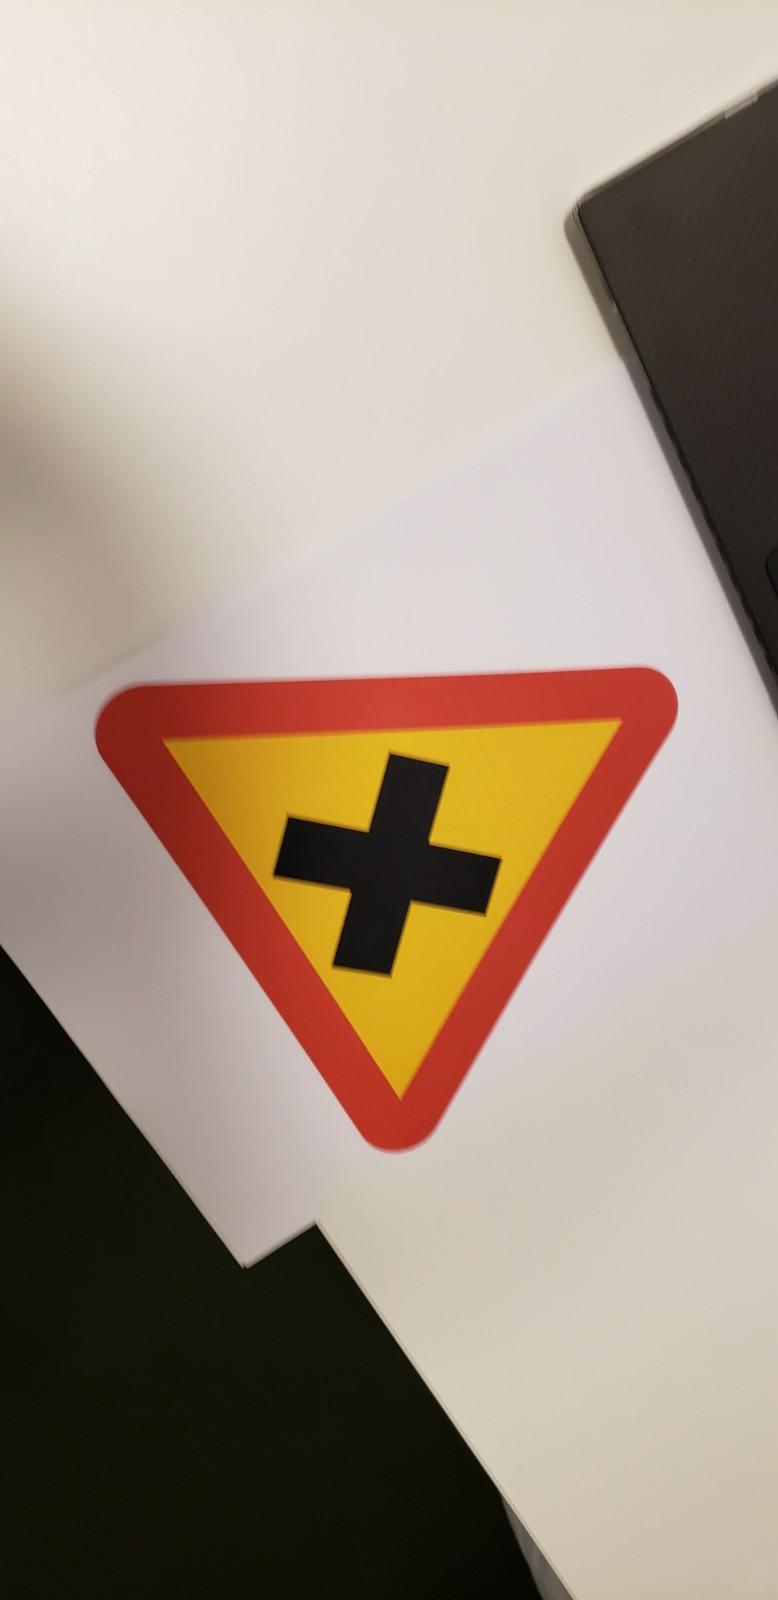junction: (50, 646, 733, 1158)
